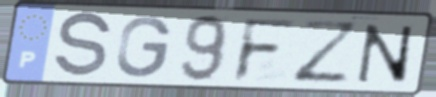9: (177, 12, 231, 86)
F: (229, 17, 300, 84)
G: (114, 14, 175, 80)
N: (355, 22, 416, 86)
S: (51, 10, 115, 82)
Z: (290, 18, 364, 86)
